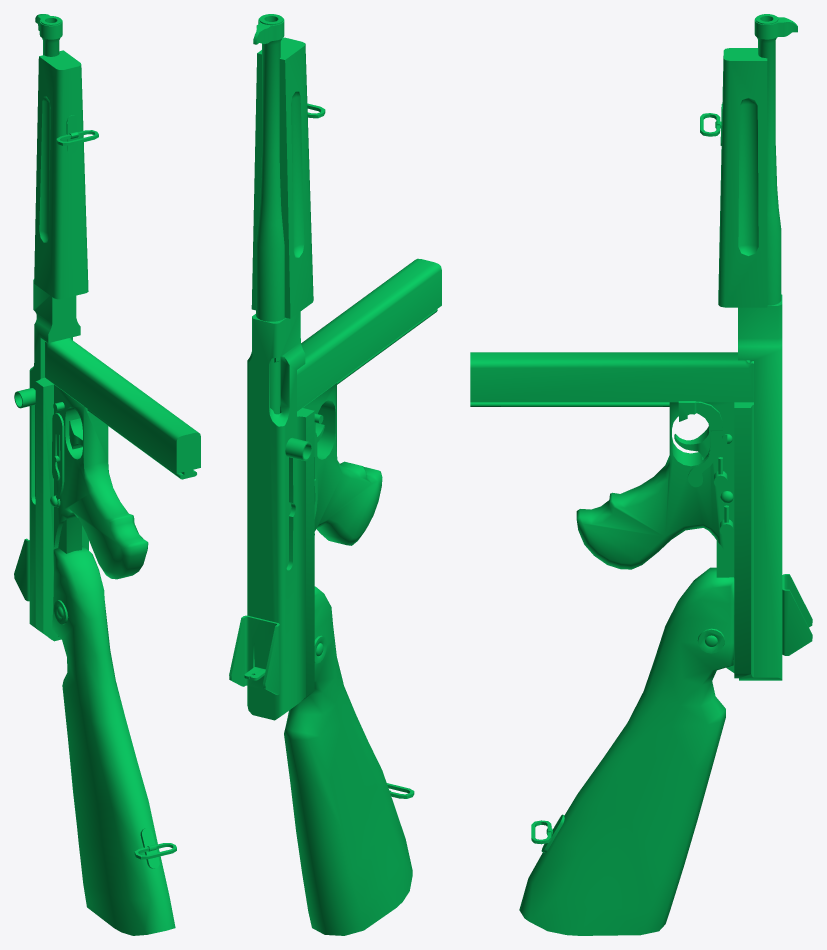
The model's file is ThompsonM1A1.fbx.
3 renders of one model, left to right at view 1: azimuth 30°, elevation 25°; view 2: azimuth 150°, elevation 25°; view 3: azimuth 270°, elevation 25°, orthographic. The views are drawn at different scales.
Parts seen in each view (by area): view 1: Object.001; view 2: Object.001; view 3: Object.001.
Part boxes in pixels (<box>): Object.001: <box>14,14,200,935</box>; Object.001: <box>229,14,441,935</box>; Object.001: <box>470,14,812,935</box>.
Size of the model in its own units: 0.0348 by 0.5016 by 0.1721.
